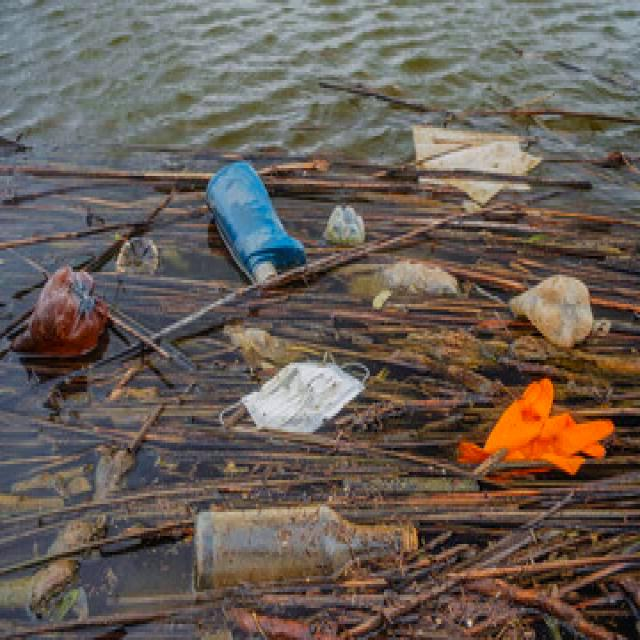Glass: (193, 500, 418, 583)
Plastic: (202, 159, 311, 286), (505, 266, 612, 344), (21, 263, 109, 357), (116, 232, 158, 280)
Trash: (452, 375, 622, 478), (215, 354, 375, 442), (413, 123, 544, 202), (349, 260, 472, 305), (323, 195, 371, 251)
